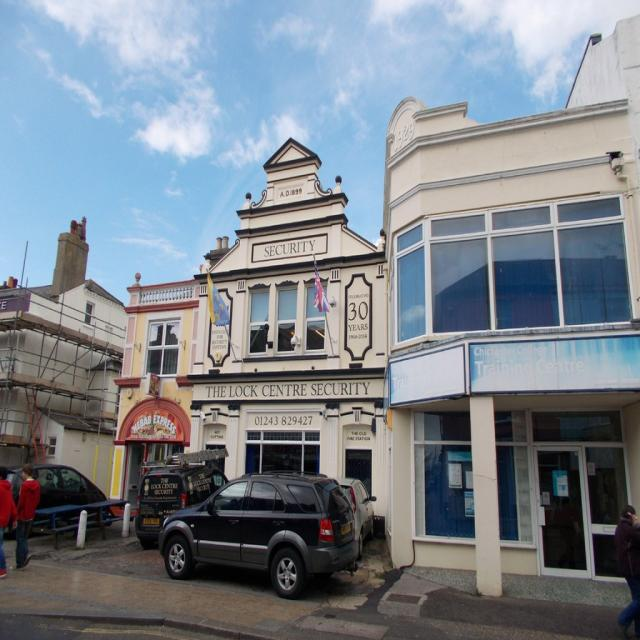car: (158, 469, 358, 598)
